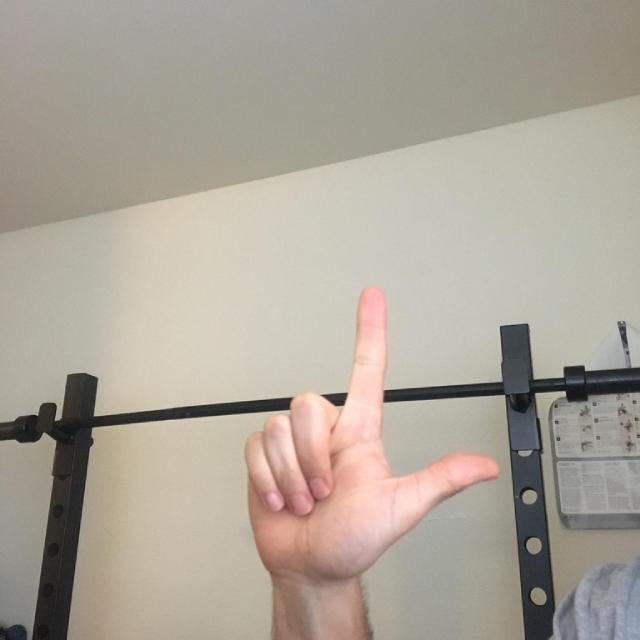L: (210, 229, 533, 628)
